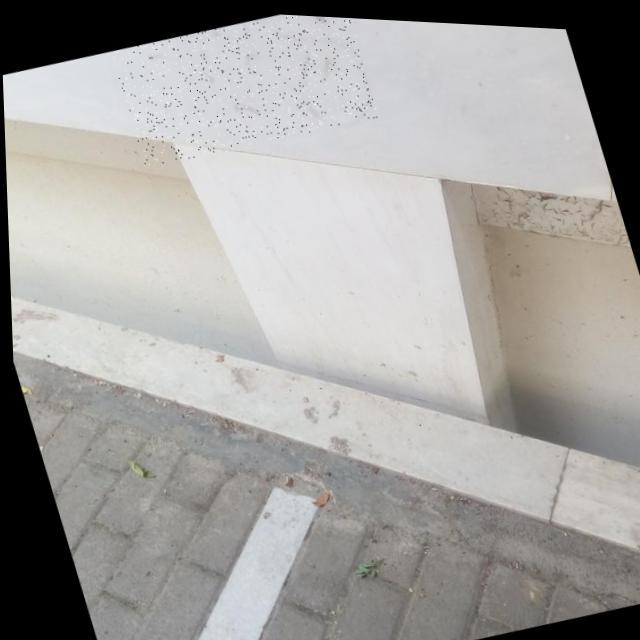-: (109, 4, 380, 176)
